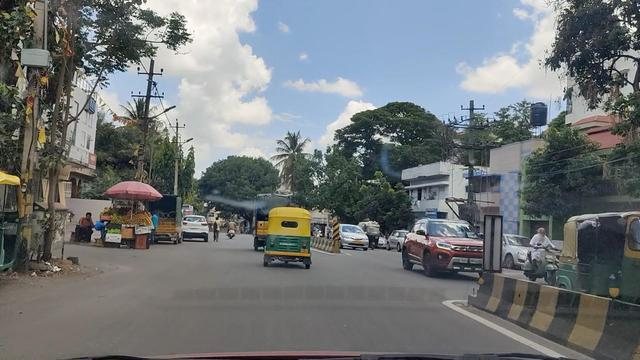LMV: (269, 208, 311, 265)
